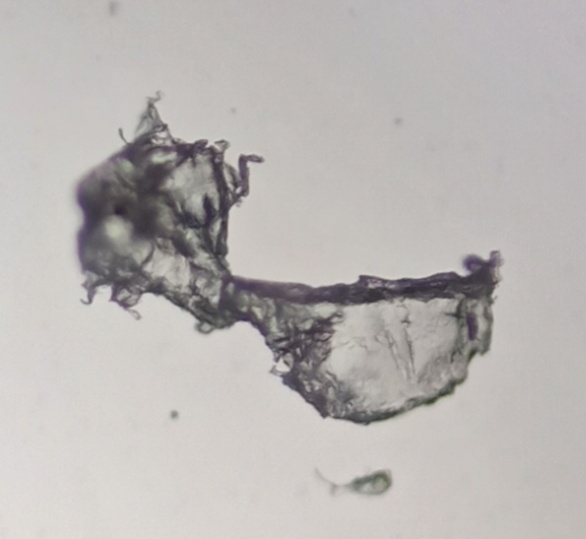microplastic: (59, 87, 508, 428), (310, 463, 403, 503)
